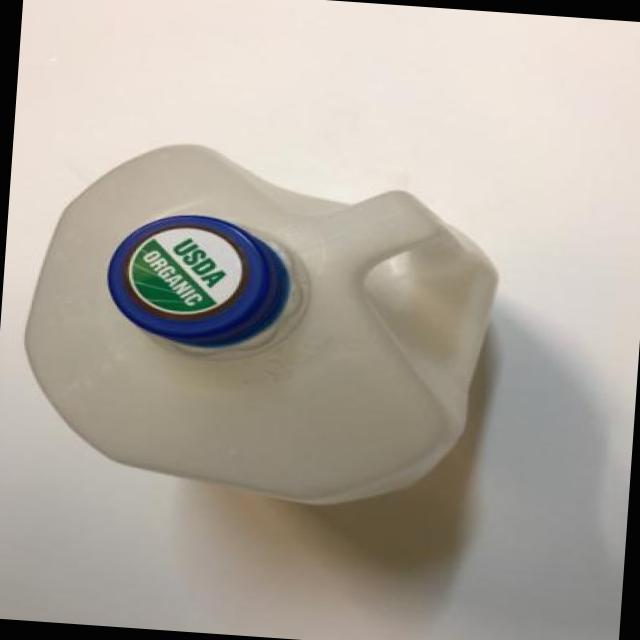bottle: (25, 145, 495, 503)
plastic: (25, 146, 495, 503)
